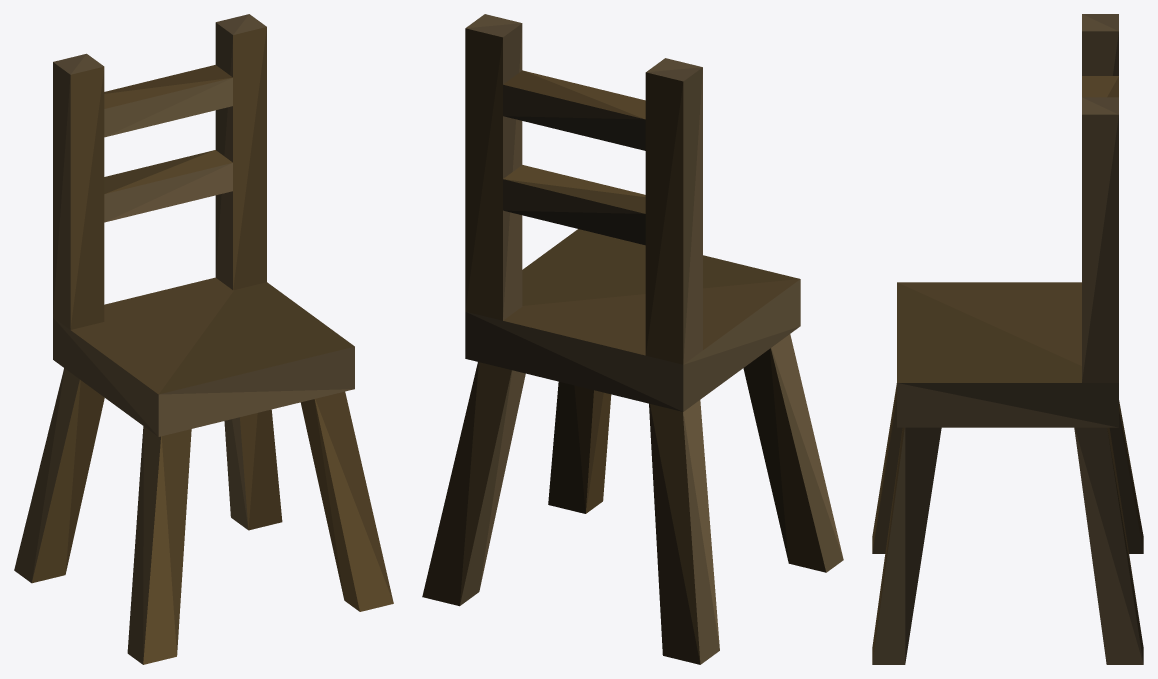
File: chair.obj
3 renders of one model, left to right at view 1: azimuth 30°, elevation 25°; view 2: azimuth 150°, elevation 25°; view 3: azimuth 270°, elevation 25°, orthographic. The views are drawn at different scales.
Parts seen in each view (by area): view 1: Object Chair 2026-09-21_11-22-12; view 2: Object Chair 2026-09-21_11-22-12; view 3: Object Chair 2026-09-21_11-22-12.
Boxes of the visible parts, x1,y1,x2,y2 form: Object Chair 2026-09-21_11-22-12: (14,14,393,664); Object Chair 2026-09-21_11-22-12: (422,14,843,664); Object Chair 2026-09-21_11-22-12: (872,14,1143,664).
Bounding box in the file's own units: 74 × 144 × 66.
